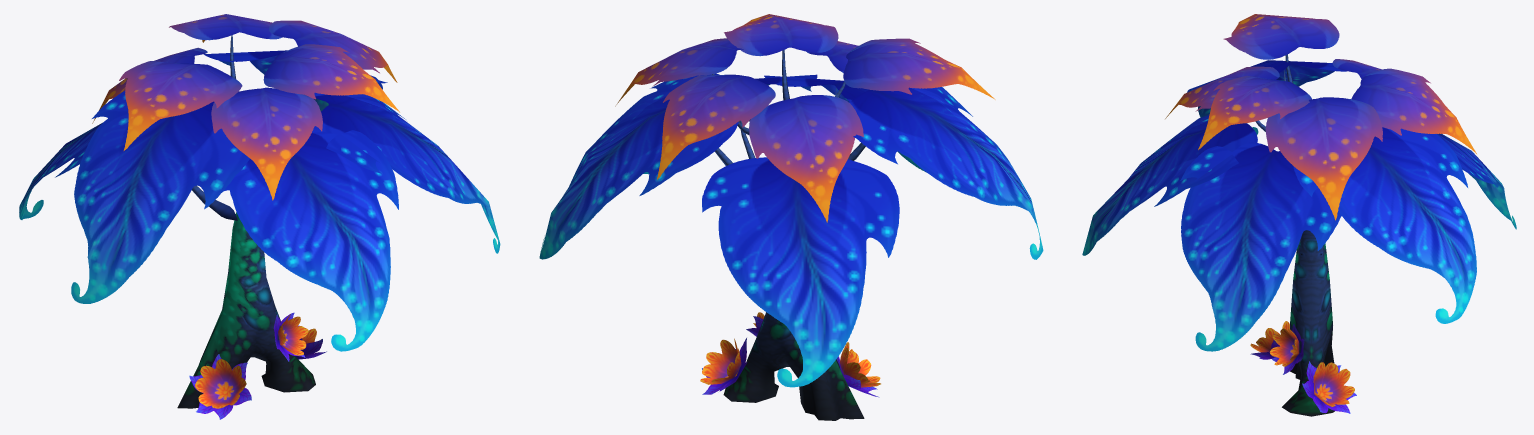
Rendered from Blue_Tree_02b.FBX.
3 renders of one model, left to right at view 1: azimuth 30°, elevation 25°; view 2: azimuth 150°, elevation 25°; view 3: azimuth 270°, elevation 25°, orthographic. The views are drawn at different scales.
Parts seen in each view (by area): view 1: Blue_Tree_02b; view 2: Blue_Tree_02b; view 3: Blue_Tree_02b.
Boxes of the visible parts, <box> form: Blue_Tree_02b: <box>19,14,500,419</box>; Blue_Tree_02b: <box>539,14,1043,420</box>; Blue_Tree_02b: <box>1082,14,1516,416</box>.
Size of the model in its own units: 222 by 180 by 221.
